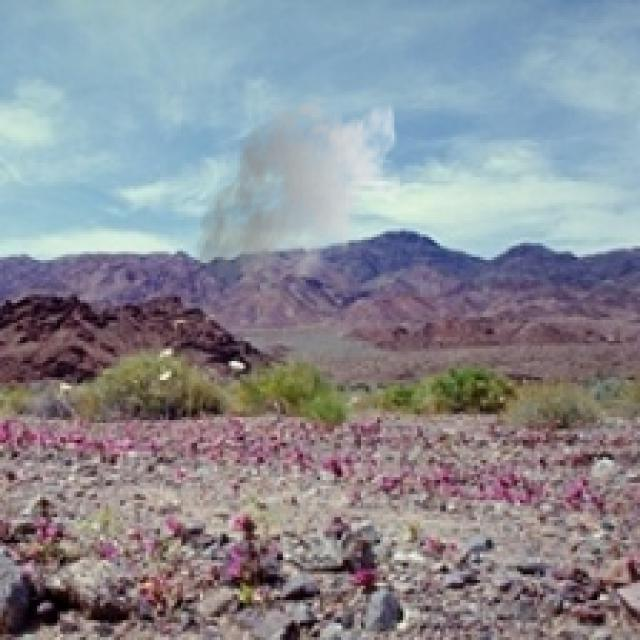smoke: (194, 92, 403, 314)
